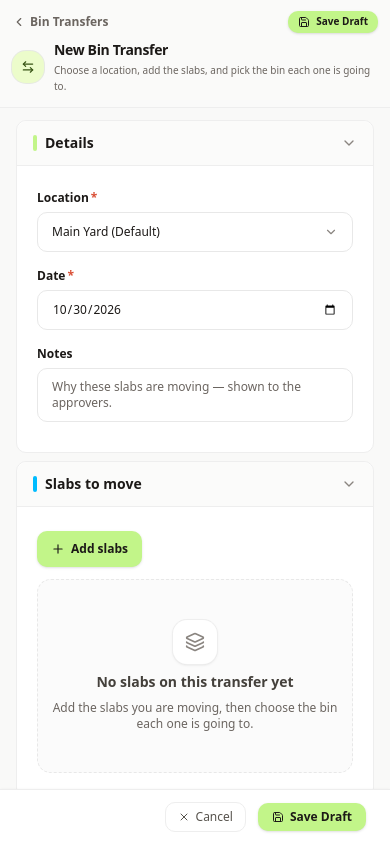
Test case: AddBinTransferPage › will not save a slab that has no destination, and says which line
The image size is (390, 844).
Click the button "Add slabs". click: (90, 548)
box: [37,530,142,566]
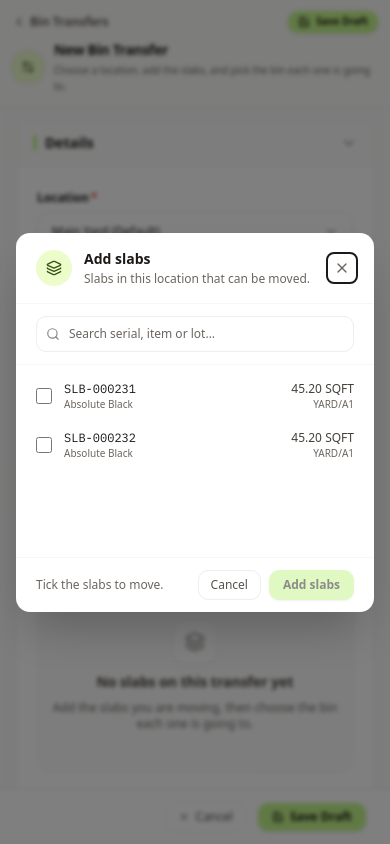
Click the checkbox named "Select SLB-000231". click: (44, 396)
box: [36,388,52,404]
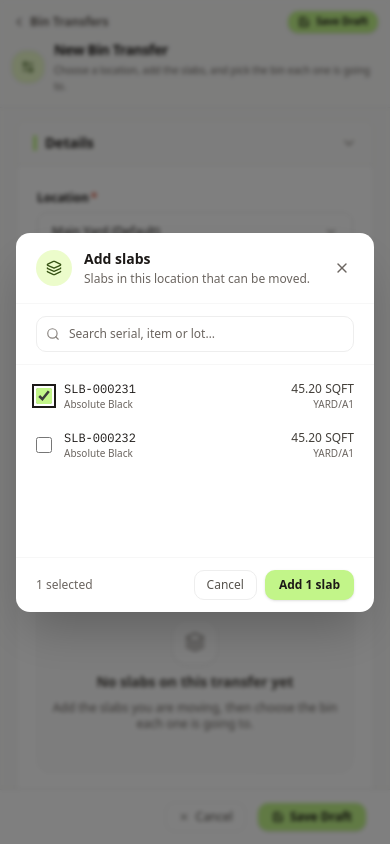
Click the button "Add 1 slab". click: (310, 584)
box: [265,570,354,600]
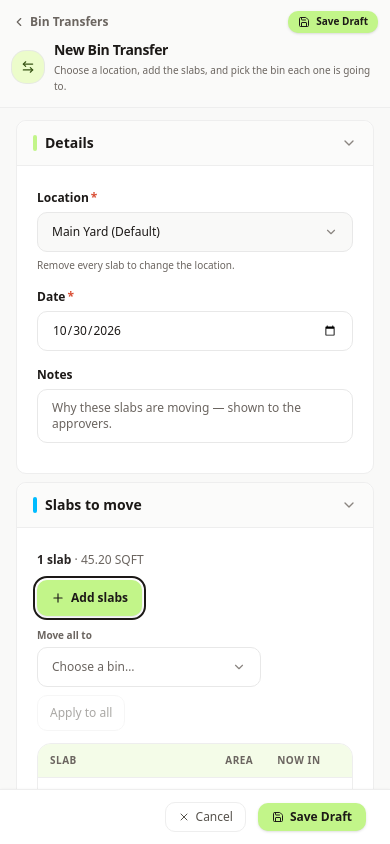
Click the 1st button "Save Draft". click: (333, 22)
box: [288,11,378,33]
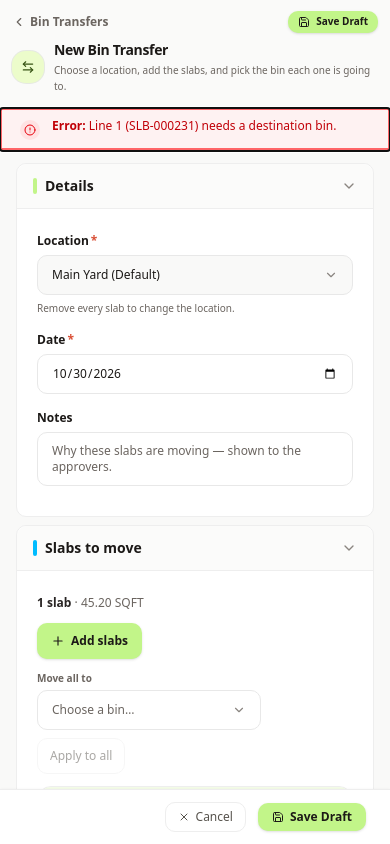
Result: the message shows "Line 1 (SLB-000231) needs a destination bin." at [89,116,336,134]
